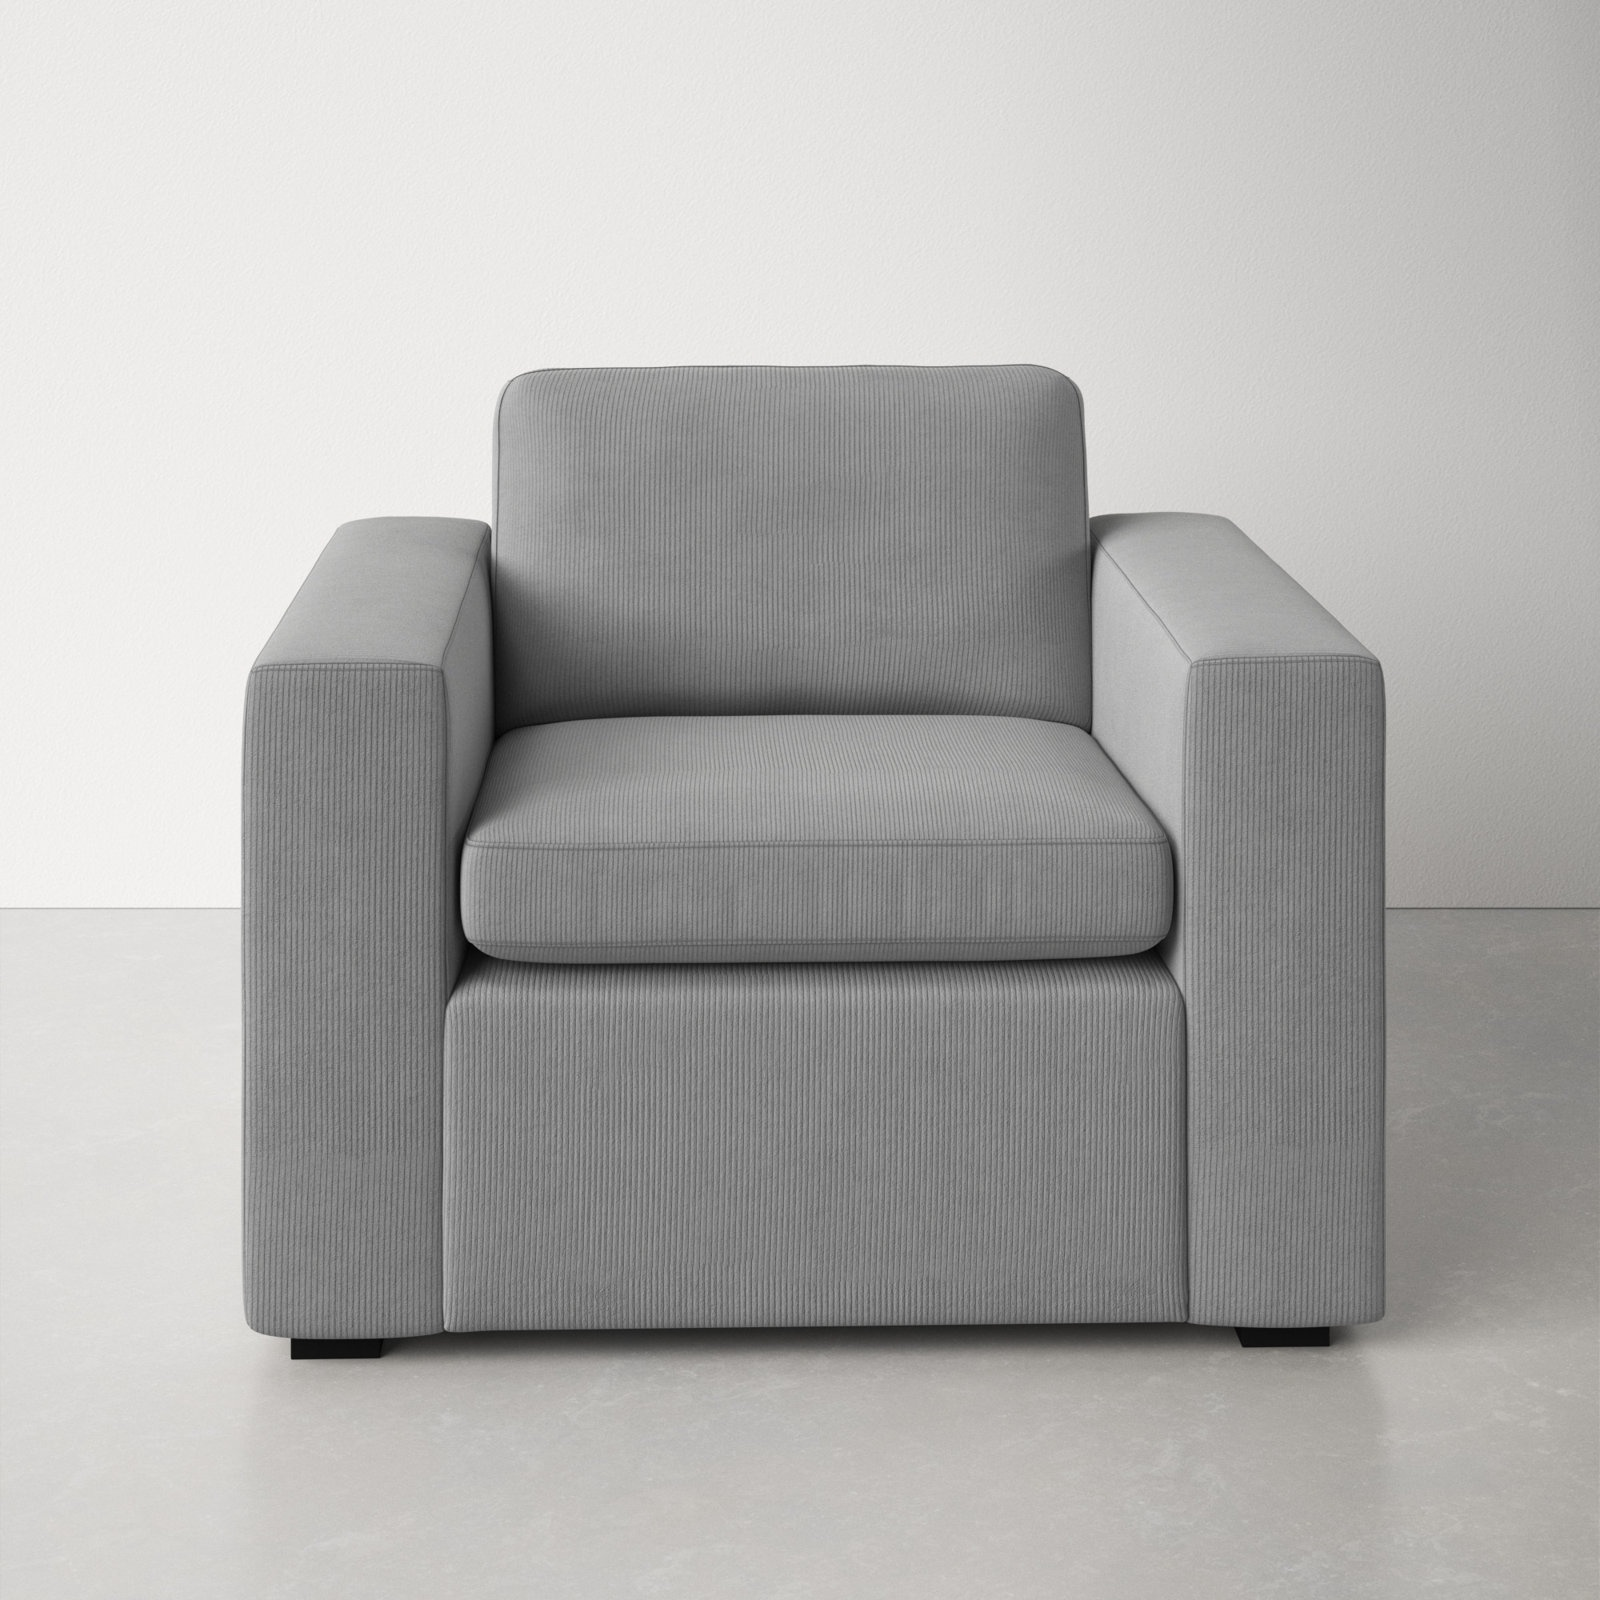obstacle: (245, 366, 1382, 1341)
